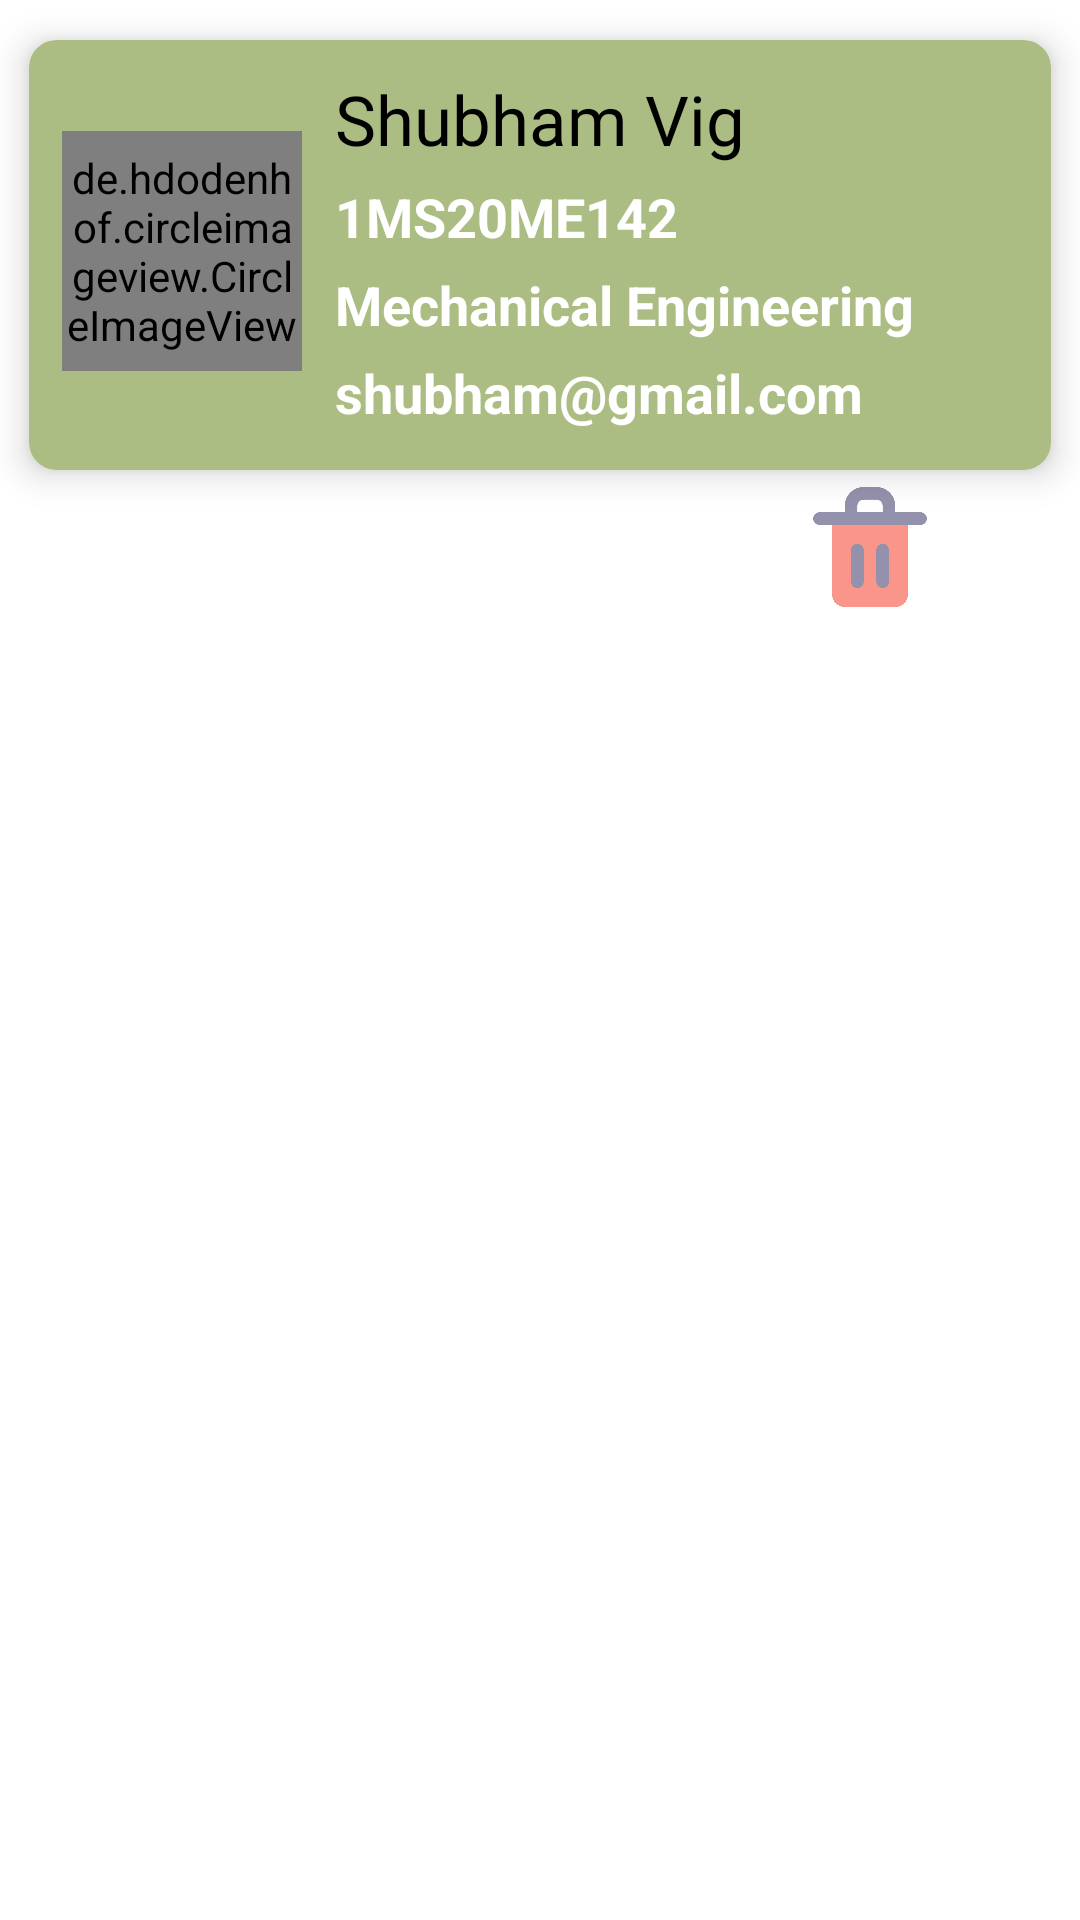

Screen size 1080px×1920px. Icon name, then its center in pixels as (x,y):
dustbin: (870,547)
